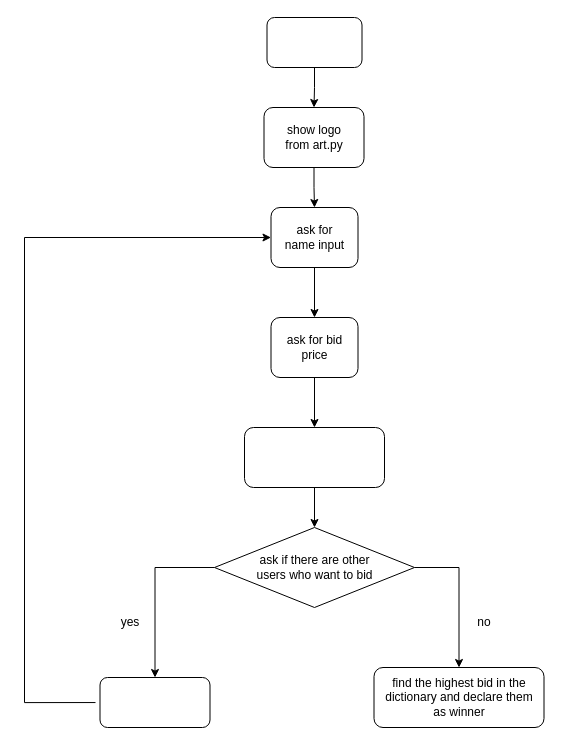
The diagram is 562 pixels wide and 745 high, and some of its shapes have lost their labels. Here are the shapes that lost their labels. From the top down, the centre of each, then its label:
[314,42]: START
[314,457]: Add name and bid into a dictionary
[154,702]: clear the sreen
